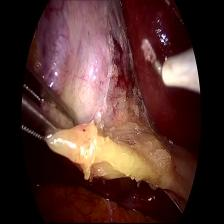Grasper: (16, 64, 78, 148)
Hook: (140, 37, 197, 96)
